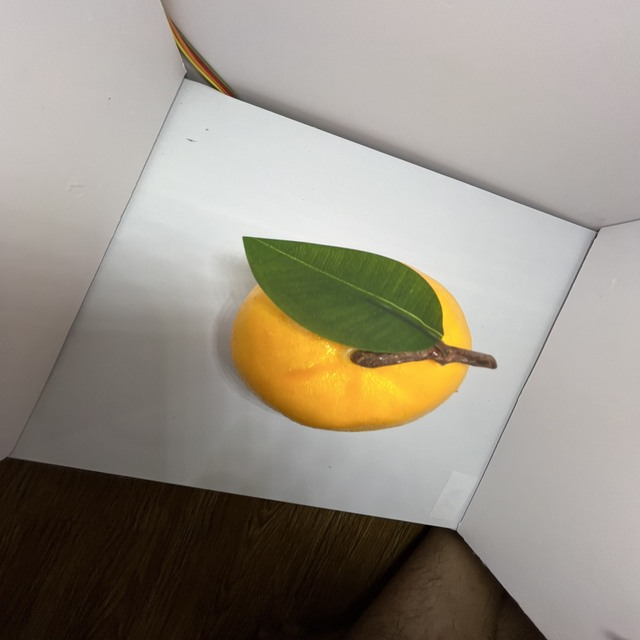Cam vang: (219, 249, 486, 434)
